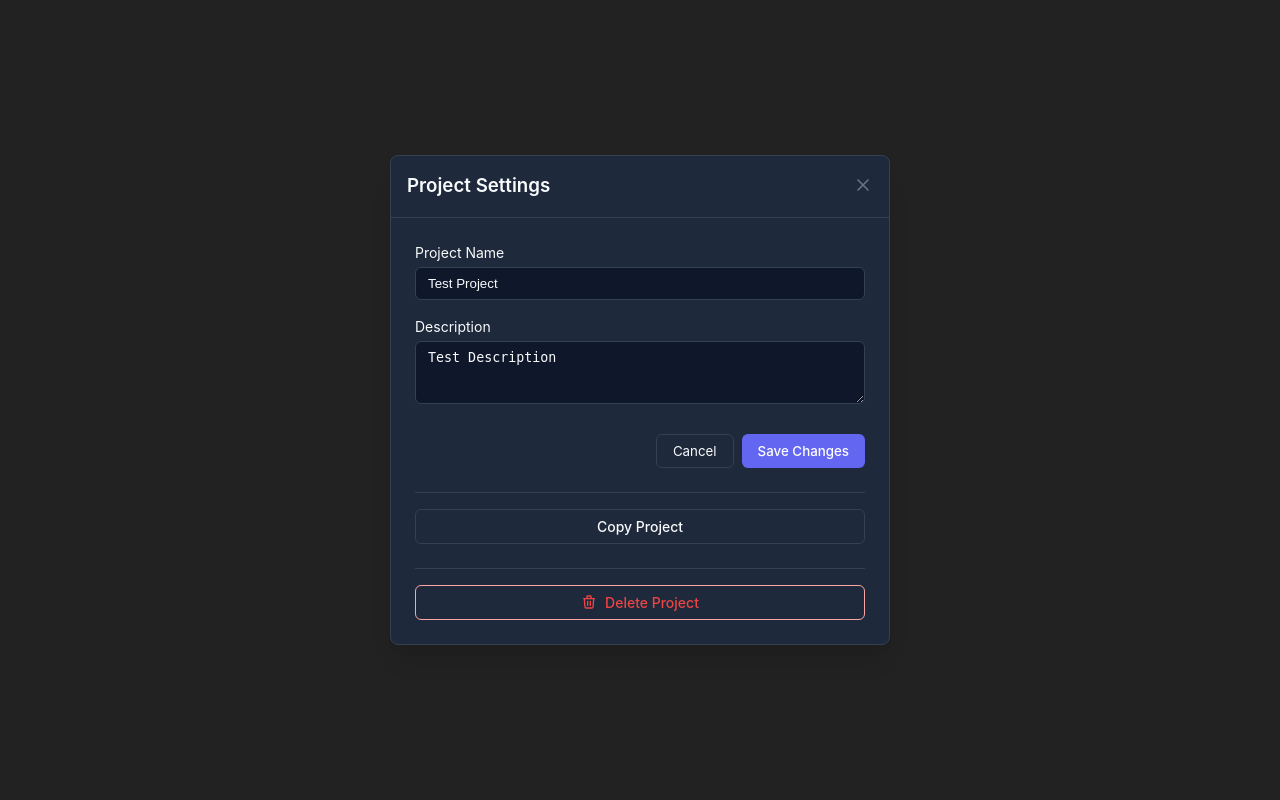
ProjectSettingsModal › Copy Project › should show error when copy name is empty
Note: Open copy dialog
Click the button "Copy Project".
click(640, 526)  # box [415,508,865,544]
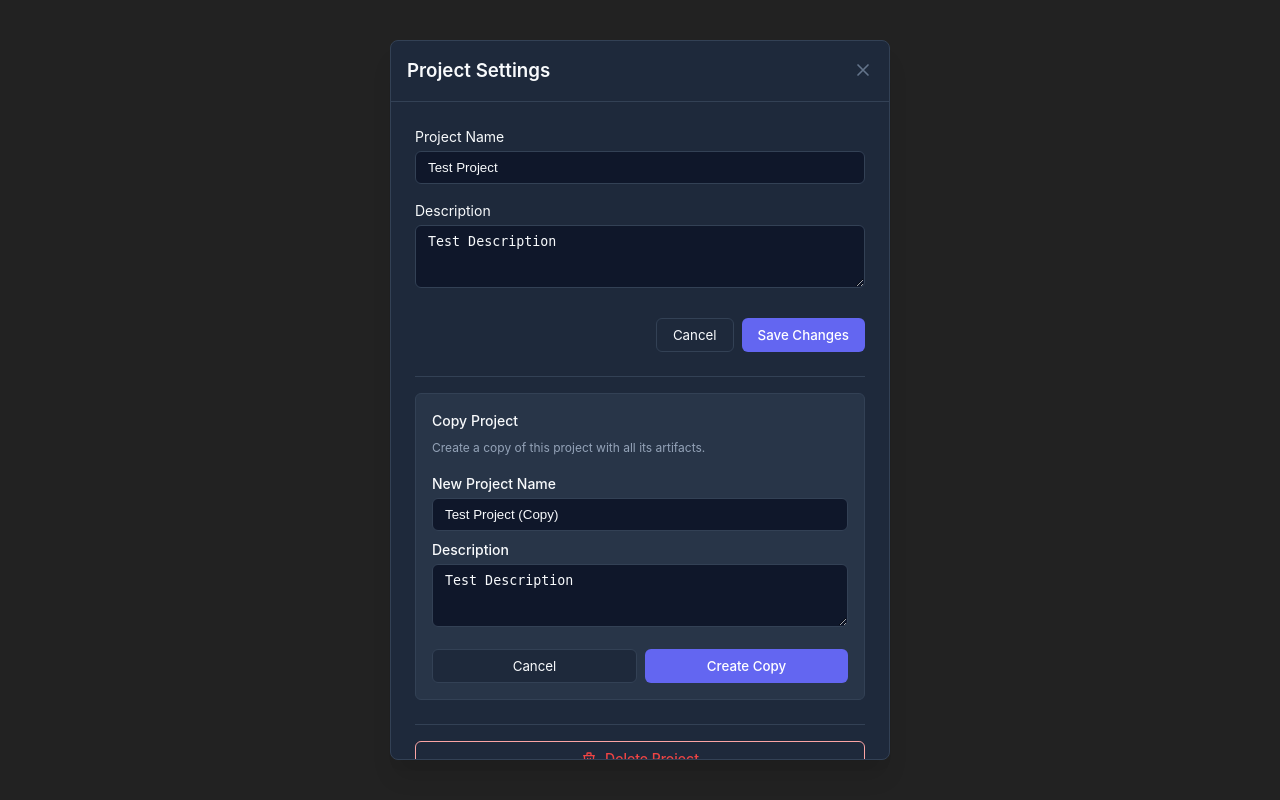
Note: Clear name
Clear the field showing "Test Project (Copy)" at [640, 515], box [432,498,848,531]
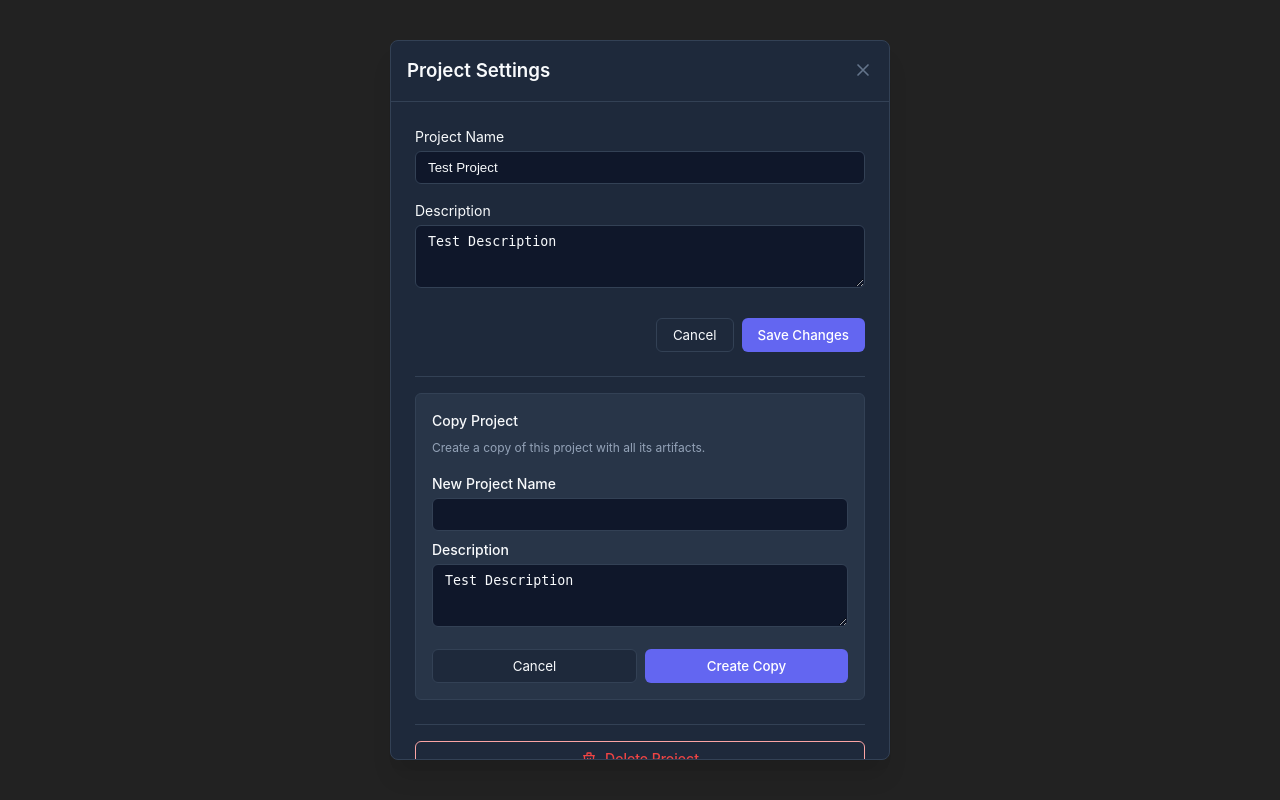
Note: Try to create
Click the button "Create Copy".
click(746, 666)  # box [645,649,848,683]
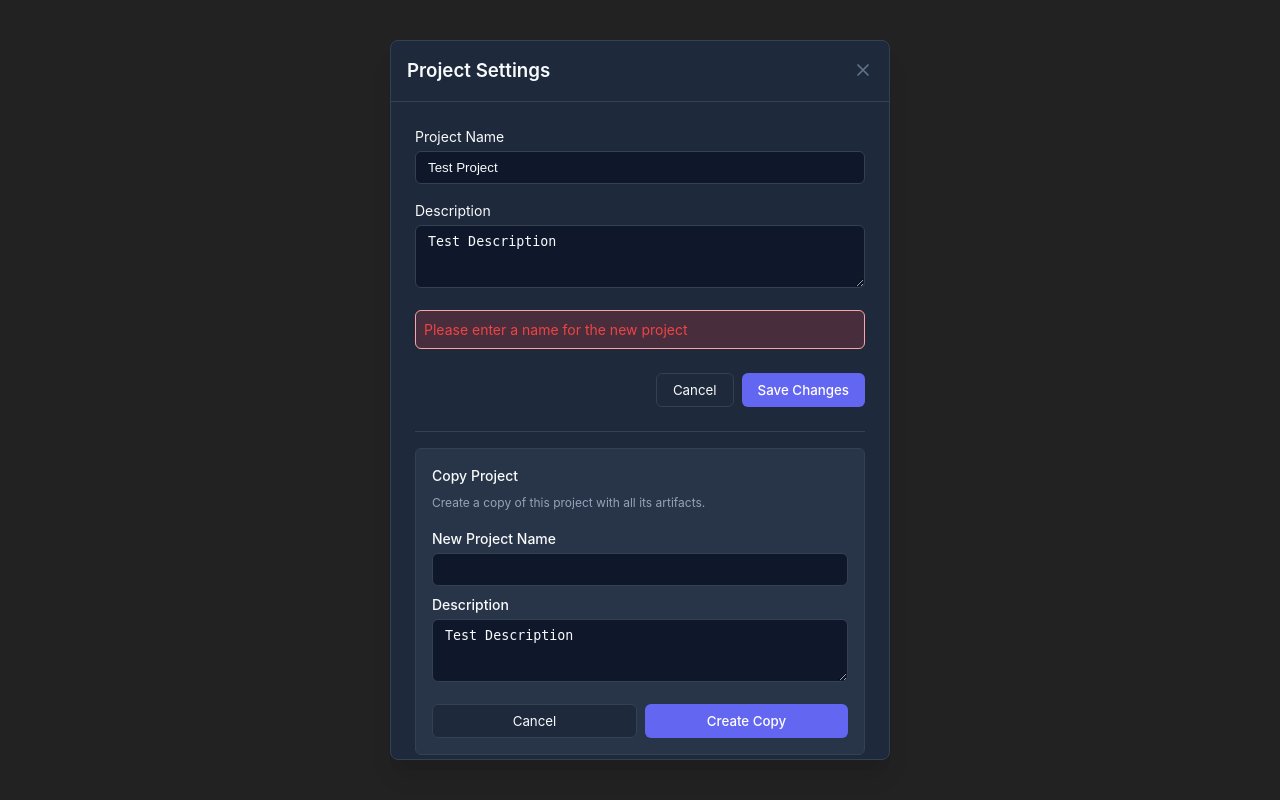
Expected: the text "Please enter a name for the new project" is shown, [415,310,865,349]
